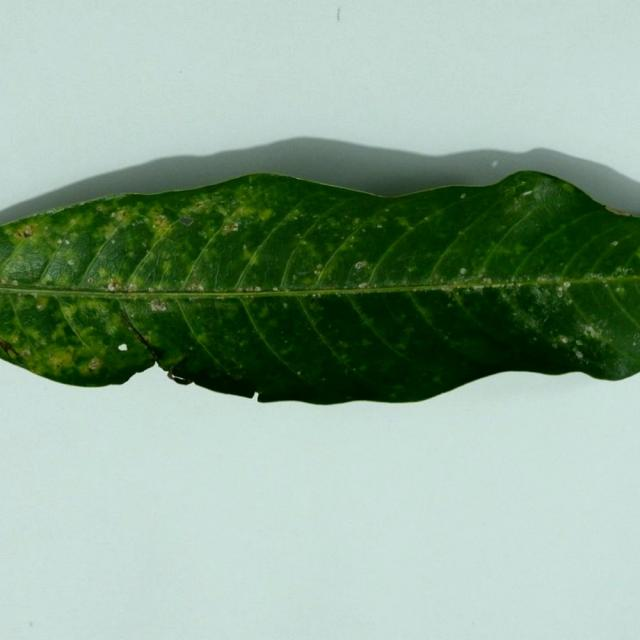Mango: (0, 172, 639, 404)
Powdery_Mildew: (455, 274, 565, 292), (330, 229, 375, 267), (96, 206, 144, 240), (110, 341, 150, 370), (523, 182, 562, 208), (146, 214, 175, 245), (217, 208, 245, 239), (44, 349, 75, 373), (346, 261, 374, 286), (526, 285, 555, 309), (604, 353, 633, 377), (255, 208, 274, 223), (152, 215, 169, 231), (15, 225, 34, 239), (51, 325, 66, 342), (510, 242, 527, 257), (241, 245, 255, 262), (149, 299, 167, 312), (583, 325, 600, 338), (35, 296, 50, 310), (614, 266, 634, 276), (87, 357, 101, 371), (113, 209, 129, 221), (558, 281, 570, 297), (190, 201, 207, 212), (560, 182, 575, 194), (248, 253, 261, 266), (109, 279, 122, 291), (257, 306, 269, 318), (187, 283, 203, 292), (97, 267, 108, 278), (232, 370, 244, 380), (44, 274, 54, 283), (361, 339, 372, 347), (22, 349, 31, 358), (432, 375, 442, 383), (358, 364, 367, 372), (338, 341, 348, 348), (616, 287, 624, 295), (70, 218, 78, 226), (157, 215, 166, 222), (96, 205, 104, 212)
